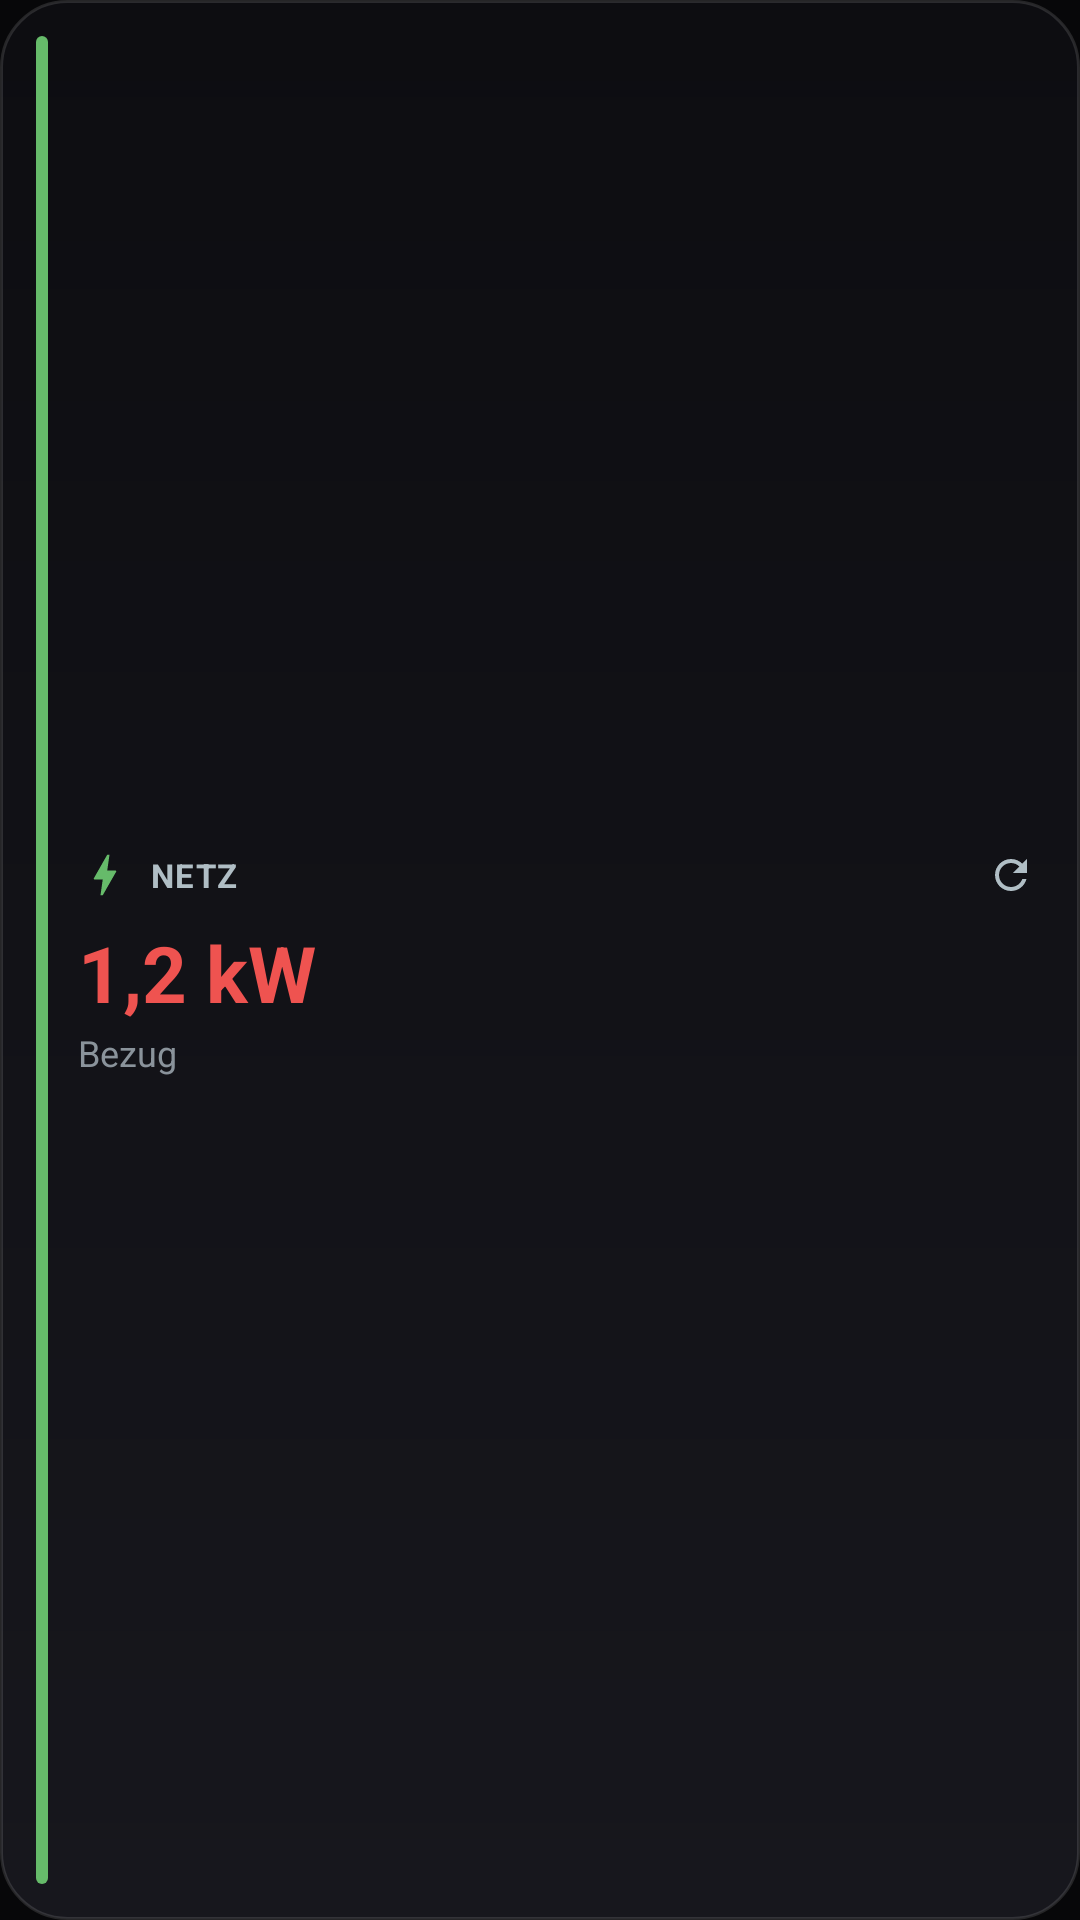

Locate icon controls on the screen. Image size 1080 × 1920, boxes as (x1, y1, x2, y2).
Aktualisieren: (995, 859, 1027, 891)
bolt: (93, 854, 117, 896)
